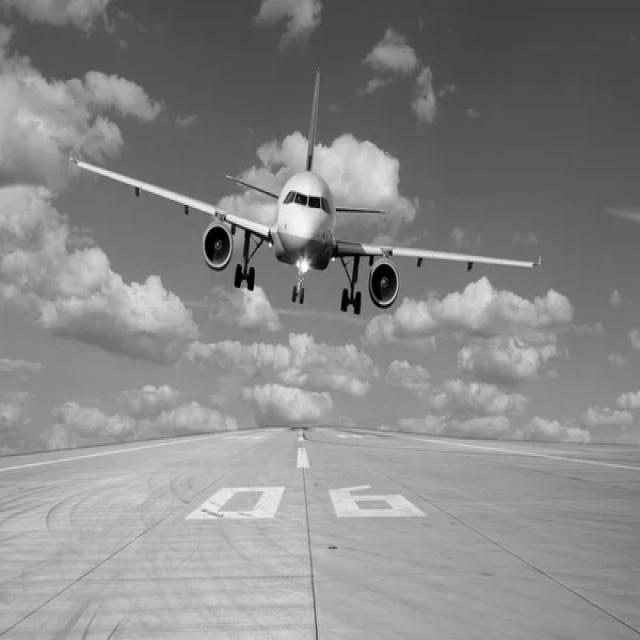Aircraft: (62, 83, 540, 321)
